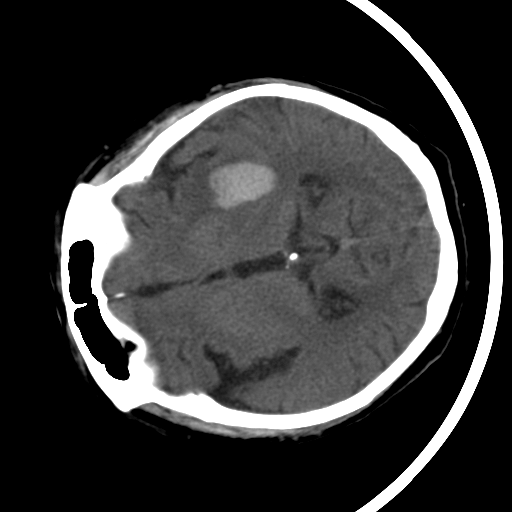a: (173, 143, 290, 228)
